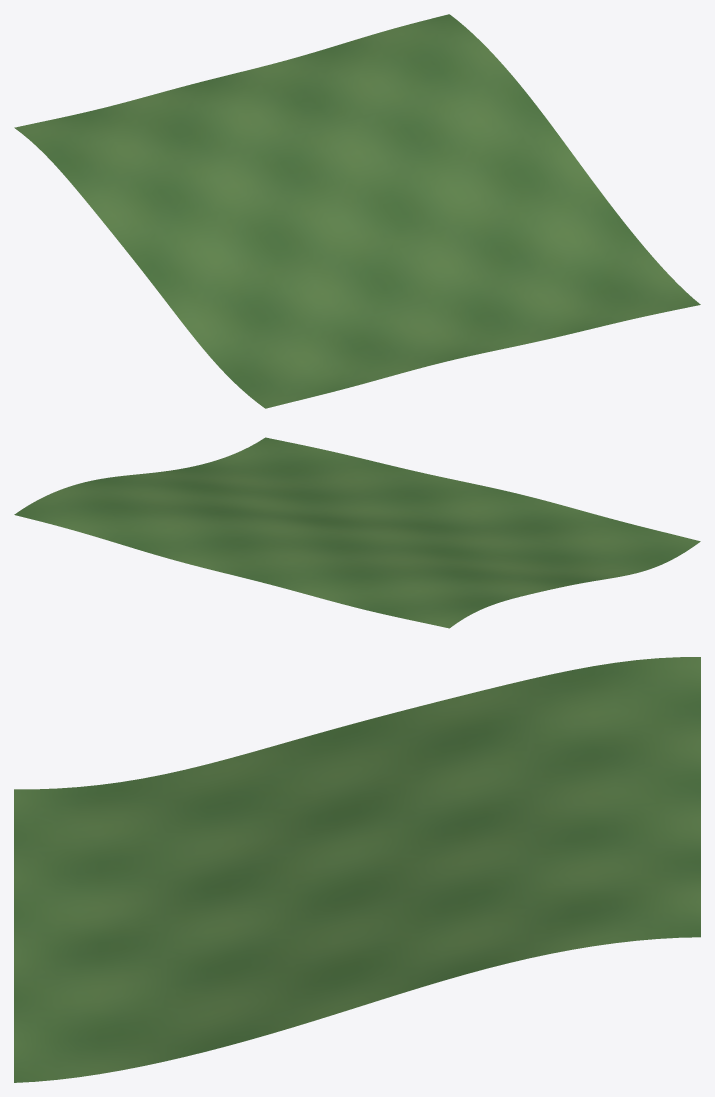
File: chunk_3_0.glb
3 views of the same model, one above another, from view 1: azimuth 30°, elevation 25°; view 2: azimuth 150°, elevation 25°; view 3: azimuth 270°, elevation 25° (orthographic). The views are drawn at different scales.
Bounding box in the file's own units: 512 × 120 × 512.
